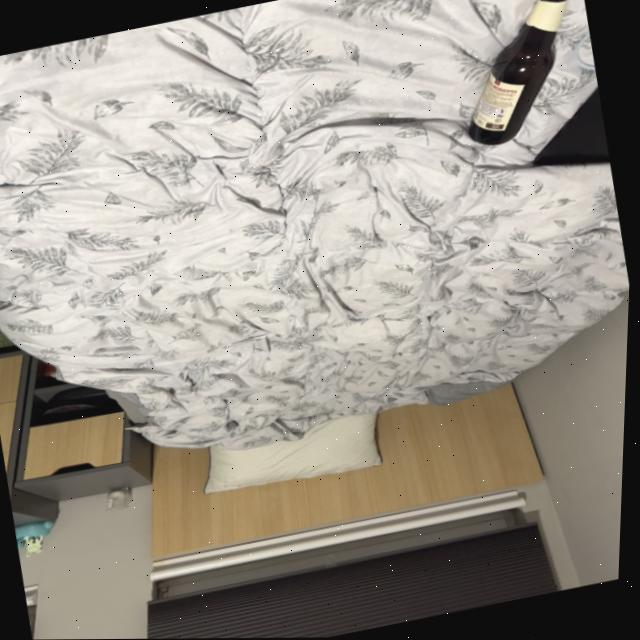beer: (437, 0, 607, 154)
